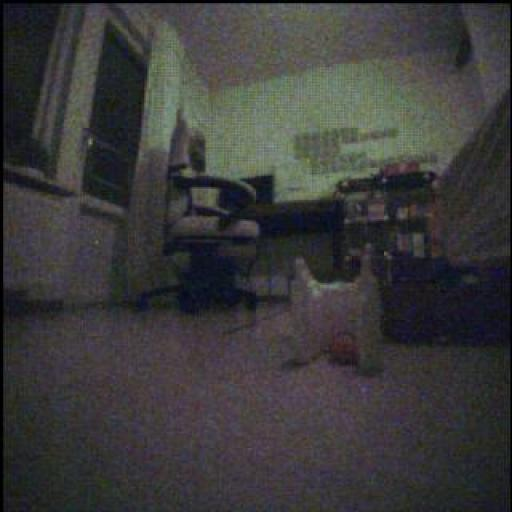basket: (327, 328, 364, 367)
